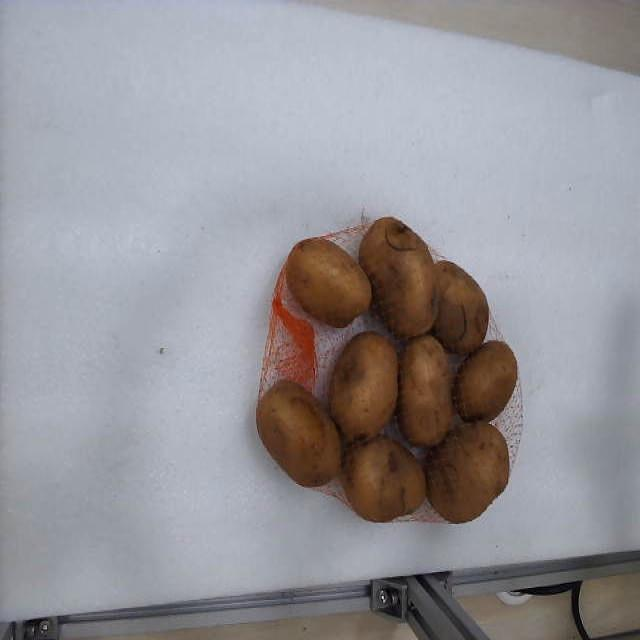potato: (359, 217, 436, 337), (256, 380, 341, 486), (426, 422, 509, 522), (286, 238, 370, 328), (330, 332, 396, 442), (341, 437, 426, 521), (398, 335, 451, 446), (432, 263, 489, 353), (455, 342, 516, 421)
